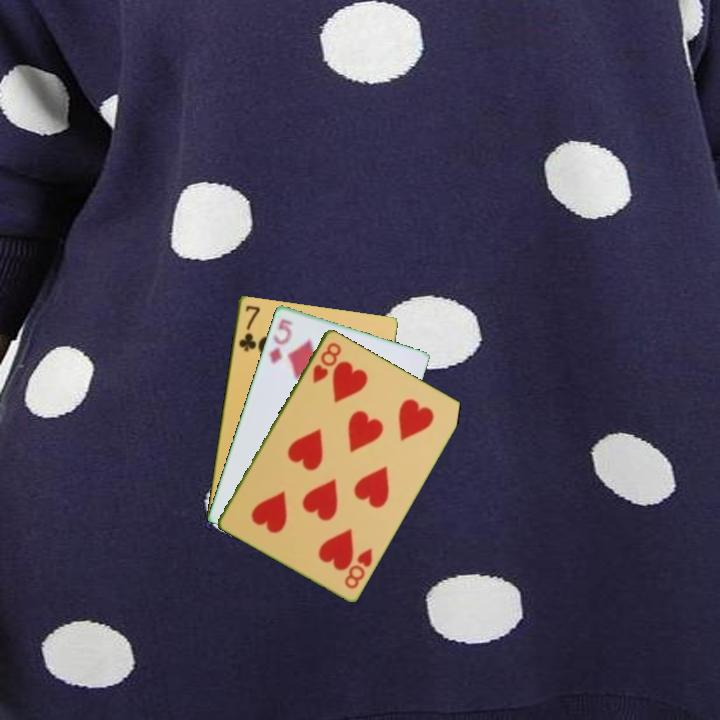5d: (266, 315, 296, 367)
7c: (235, 301, 263, 354)
8h: (309, 338, 344, 386), (340, 544, 375, 591)
